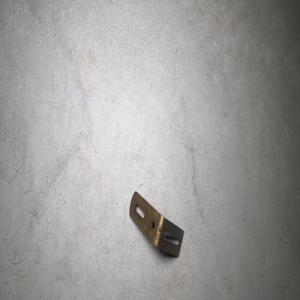MetalPart: (128, 189, 184, 258)
